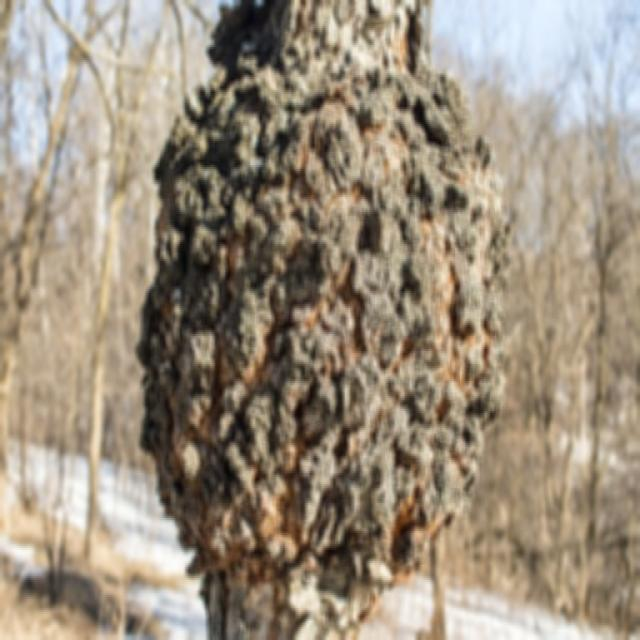Black_knot: (134, 0, 514, 638)
